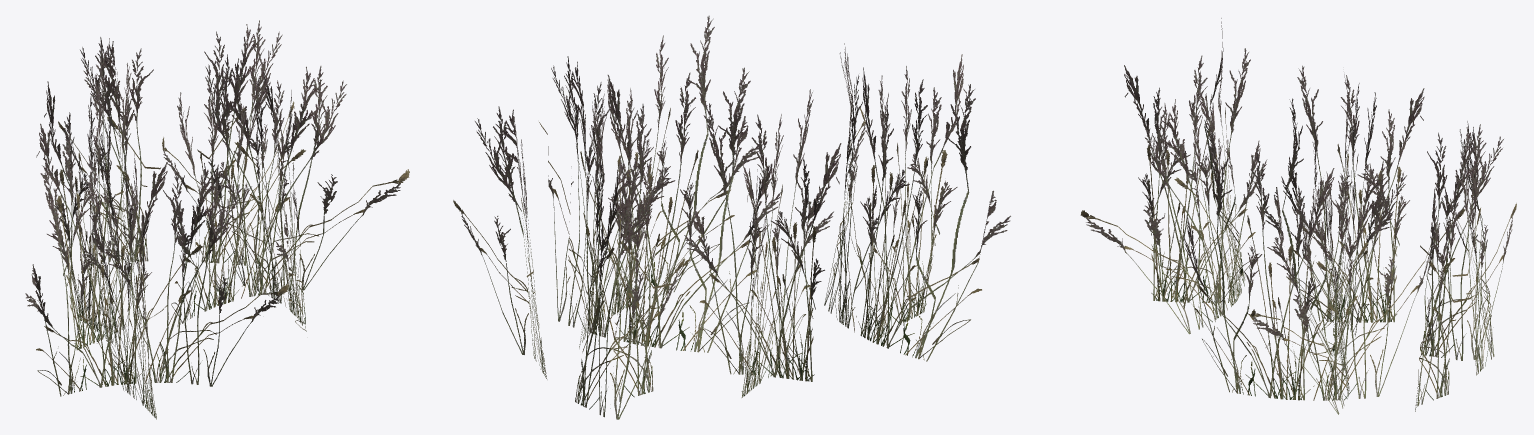
File: reeds.glb
The picture shows the model from 3 angles, left to right: view 1: azimuth 30°, elevation 25°; view 2: azimuth 150°, elevation 25°; view 3: azimuth 270°, elevation 25°; orthographic projection. The views are drawn at different scales.
Visible parts, largest first — view 1: Model__Grass_Reeds; view 2: Model__Grass_Reeds; view 3: Model__Grass_Reeds.
Boxes of the visible parts, x1=… form: Model__Grass_Reeds: x1=25, y1=20, x2=409, y2=419; Model__Grass_Reeds: x1=453, y1=15, x2=1010, y2=419; Model__Grass_Reeds: x1=1080, y1=18, x2=1516, y2=414.
Size of the model in its own units: 2.39 by 1.36 by 2.23.
Materials: 1 (1 with a texture image).
